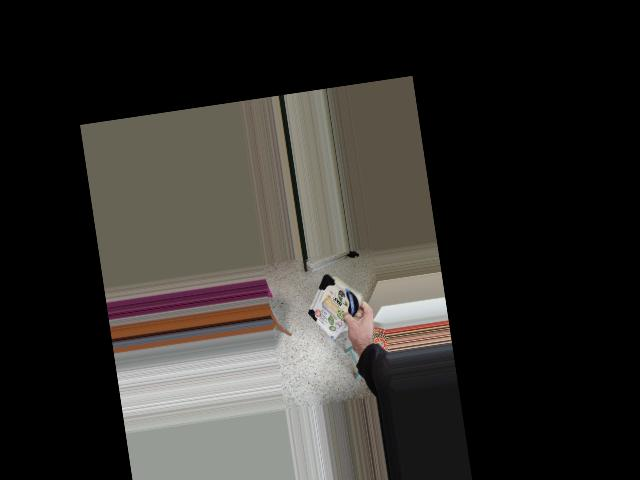cheese: (297, 269, 378, 333)
